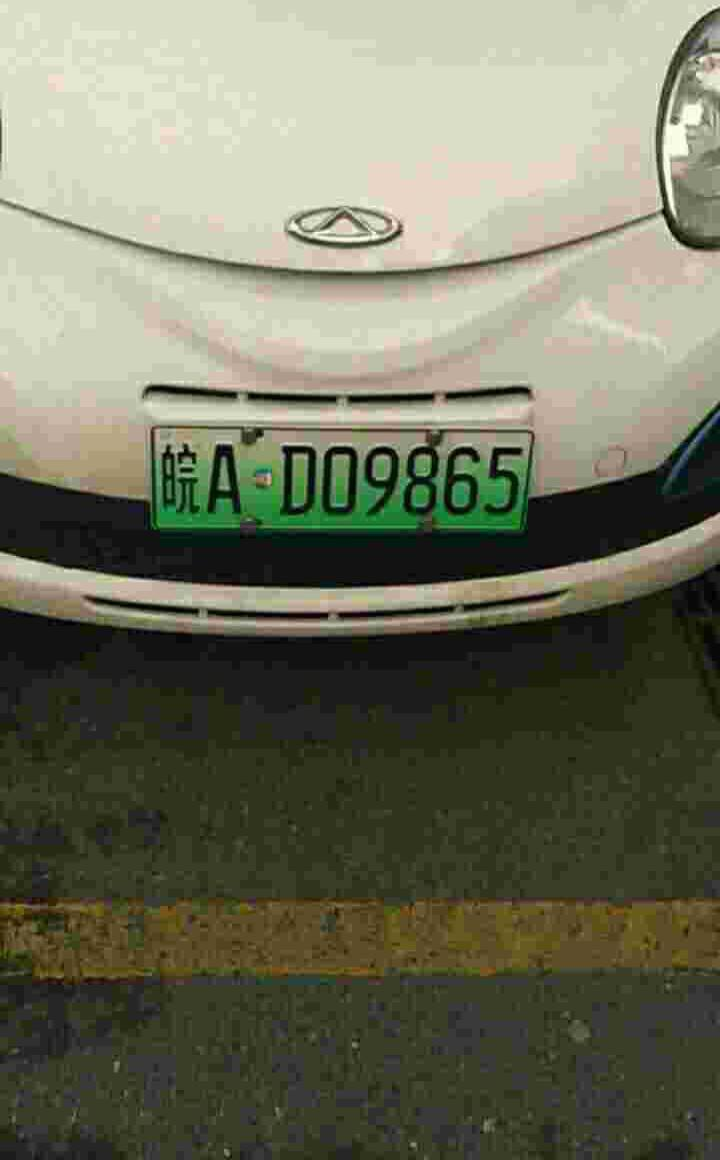car_green: (148, 421, 539, 542)
